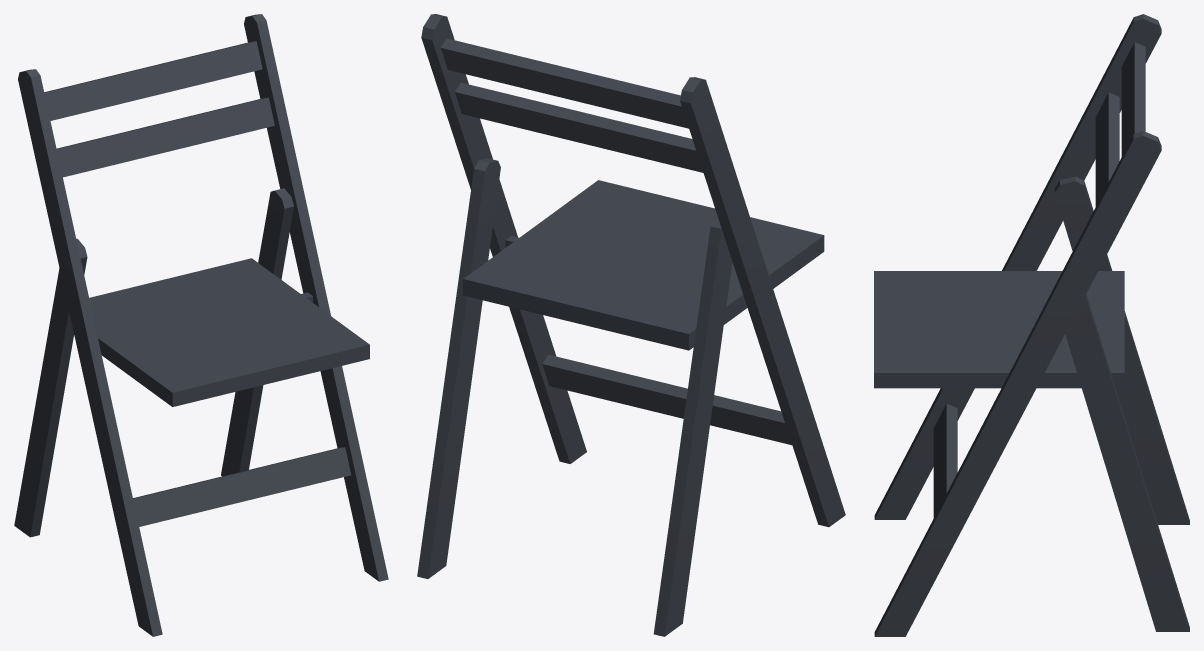
Rendered from Chair_05.fbx.
3 views of the same model, side by side, from view 1: azimuth 30°, elevation 25°; view 2: azimuth 150°, elevation 25°; view 3: azimuth 270°, elevation 25° (orthographic). The views are drawn at different scales.
Visible parts, largest first — view 1: Chair_05; view 2: Chair_05; view 3: Chair_05.
Boxes of the visible parts, x1,y1,x2,y2 form: Chair_05: (14,14,388,636); Chair_05: (417,14,845,636); Chair_05: (874,14,1189,636).
Bounding box in the file's own units: 0.5199 × 0.9971 × 0.5693.
